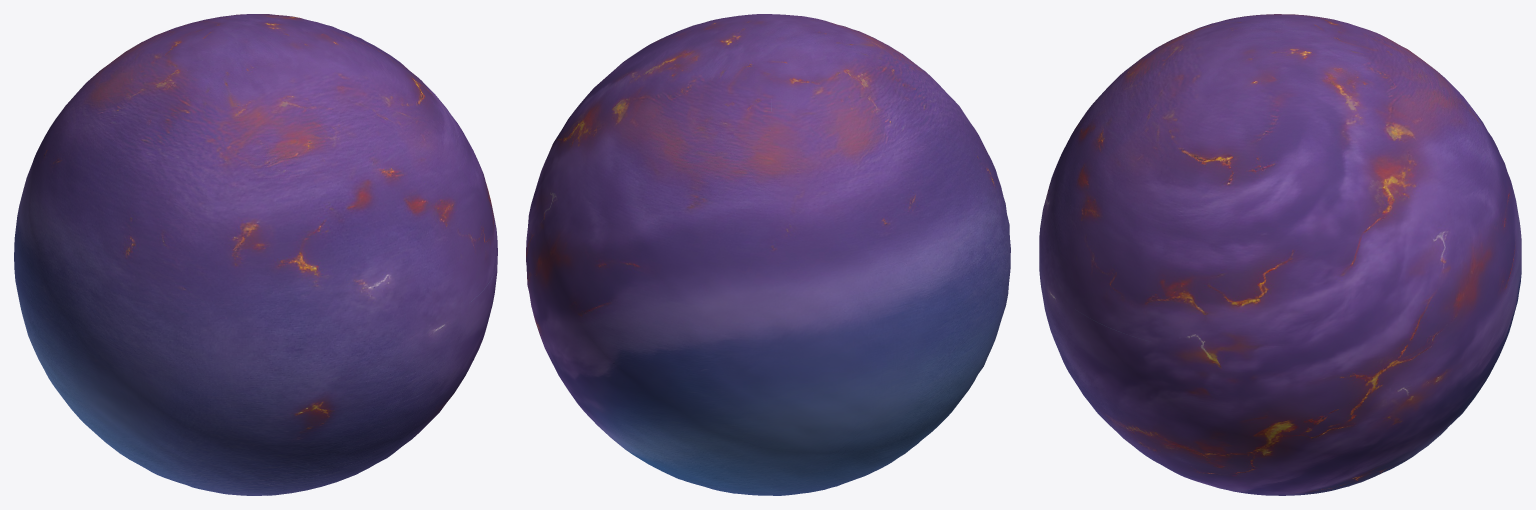
The model's file is forge.glb.
3 views of the same model, side by side, from view 1: azimuth 30°, elevation 25°; view 2: azimuth 150°, elevation 25°; view 3: azimuth 270°, elevation 25° (orthographic).
Visible parts, largest first — view 1: tripo_node_b2b1128c-d6ca-42e7-b62e-f9bed6b8f245; view 2: tripo_node_b2b1128c-d6ca-42e7-b62e-f9bed6b8f245; view 3: tripo_node_b2b1128c-d6ca-42e7-b62e-f9bed6b8f245.
Boxes of the visible parts, <box> form: tripo_node_b2b1128c-d6ca-42e7-b62e-f9bed6b8f245: <box>14,14,497,495</box>; tripo_node_b2b1128c-d6ca-42e7-b62e-f9bed6b8f245: <box>526,14,1010,495</box>; tripo_node_b2b1128c-d6ca-42e7-b62e-f9bed6b8f245: <box>1039,14,1521,495</box>.
Size of the model in its own units: 1 by 1 by 1.
1 material, 1 textured.
